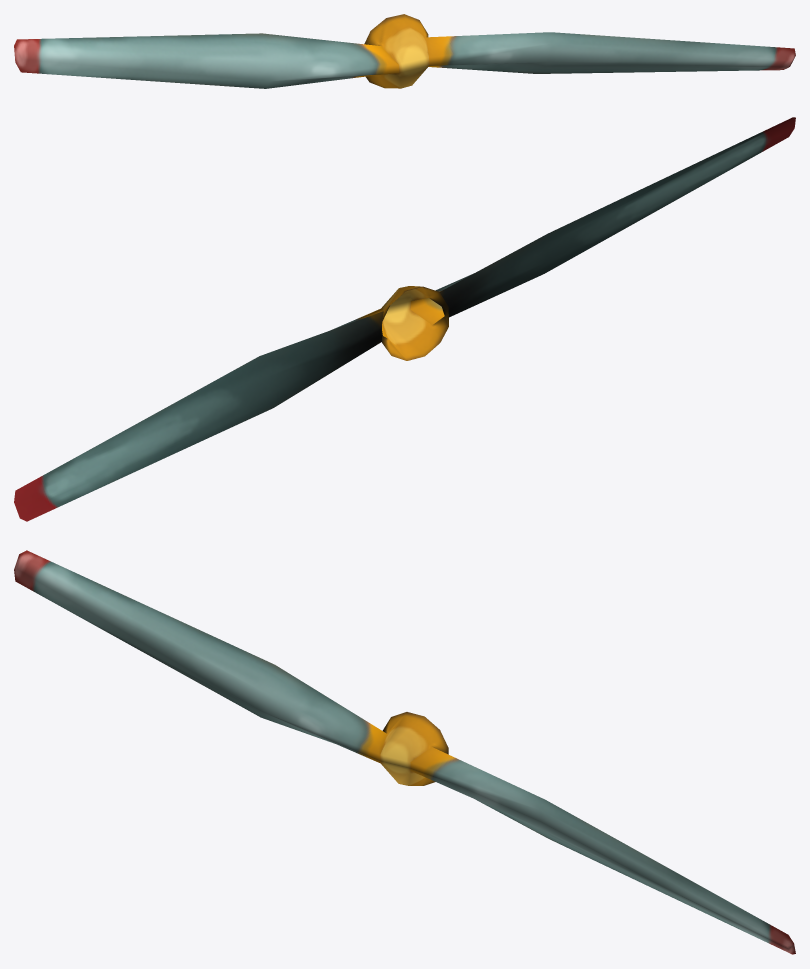
File: plane_blade.dae
The picture shows the model from 3 angles, top to bottom: view 1: azimuth 30°, elevation 25°; view 2: azimuth 210°, elevation 25°; view 3: azimuth 330°, elevation 25°; orthographic projection.
Visible parts, largest first — view 1: blade; view 2: blade; view 3: blade.
Part boxes in pixels (x1,y1,x2,y2): blade: (14,14,795,88); blade: (14,117,795,521); blade: (14,550,795,954).
Bounding box in the file's own units: 2.7 × 0.1173 × 0.7195.
Materials: 1 (1 with a texture image).
